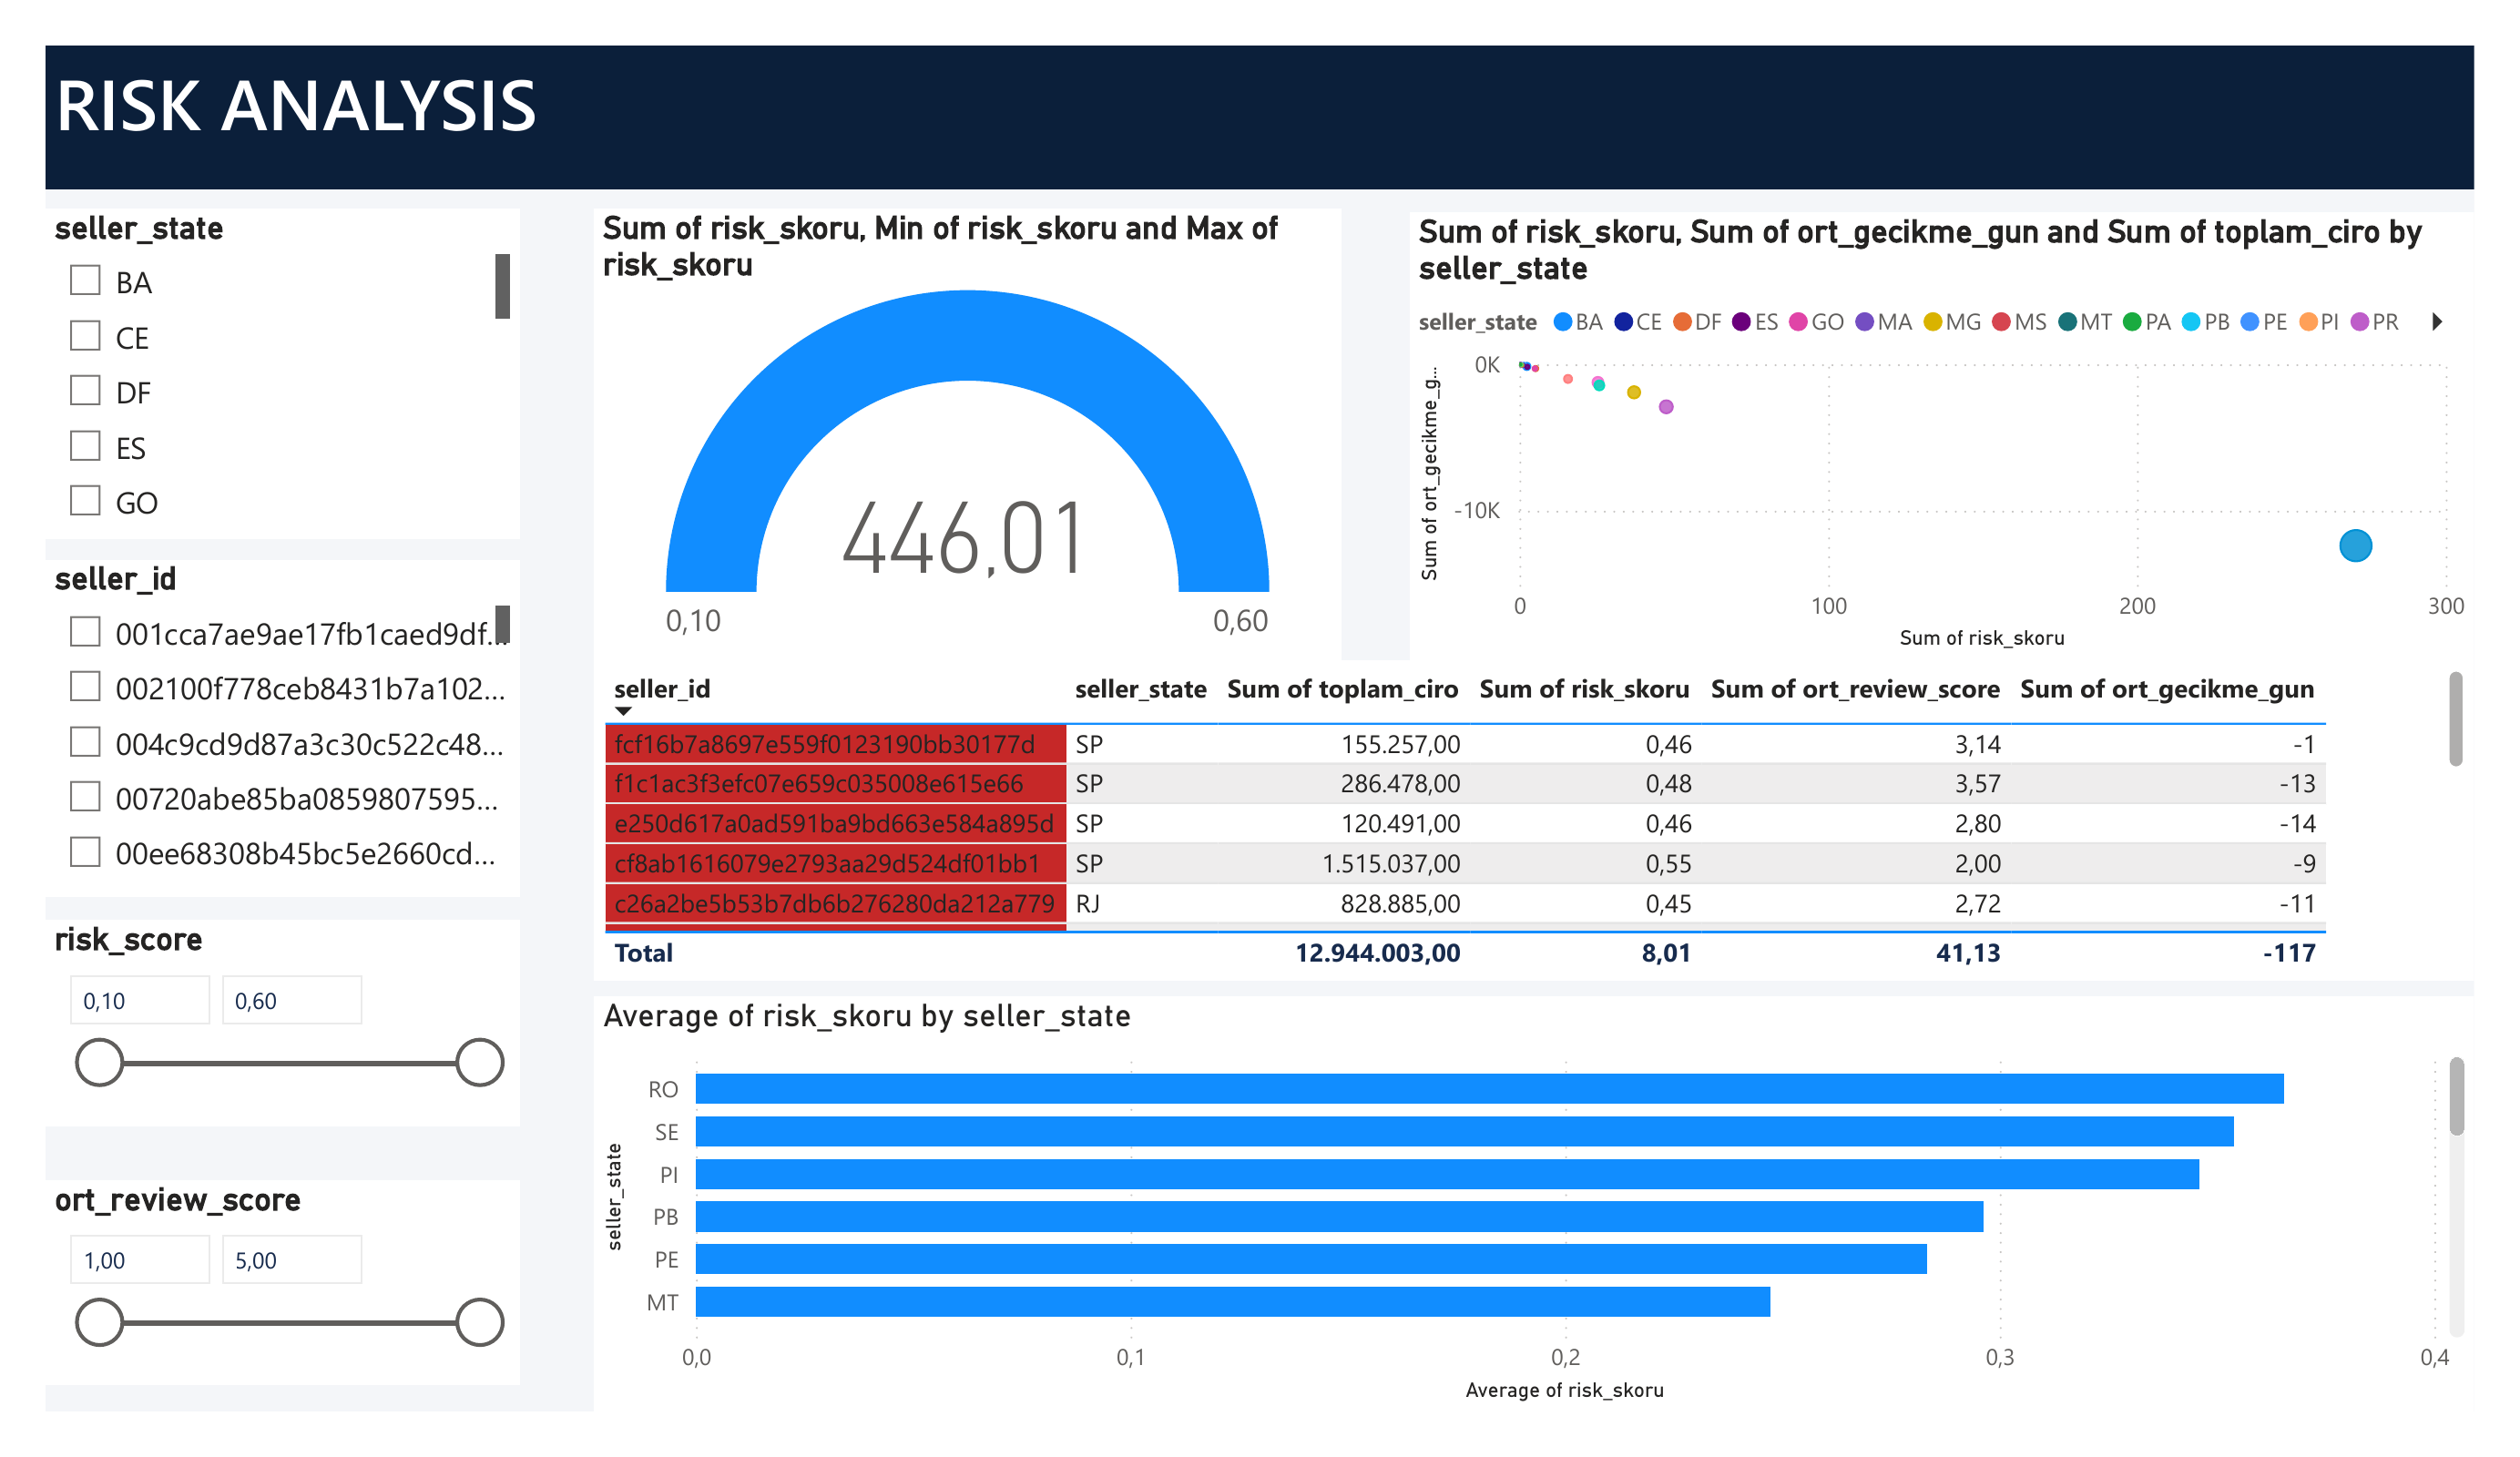

Layout of this report page (visuals, bound fields, positions):
{"tool":"powerbi","page":{"name":"Risk Analysis","canvas":[1280,720],"ordinal":2},"visuals":[{"type":"textbox","box":[0,0,1280,75.7],"z":0},{"type":"gauge","fields":{"Y":["Sum(Query1.risk_skoru)"],"MinValue":["Min(Query1.risk_skoru)"],"MaxValue":["Max(Query1.risk_skoru)"]},"box":[288.8,86.2,393.8,238.8],"z":1000},{"type":"slicer","title":"seller_state","fields":{"Values":["Query1.seller_state"]},"box":[0,86.2,250,173.8],"z":2000},{"type":"slicer","title":"seller_id","fields":{"Values":["Query1.seller_id"]},"box":[0,271.2,250,177.5],"z":3000},{"type":"slicer","title":"risk_score","fields":{"Values":["Query1.risk_skoru"]},"box":[0,461.2,250,108.8],"z":4000},{"type":"slicer","title":"ort_review_score","fields":{"Values":["Query1.ort_review_score"]},"box":[0,597.5,250,108.8],"z":5000},{"type":"scatterChart","fields":{"X":["Sum(Query1.risk_skoru)"],"Y":["Sum(Query1.ort_gecikme_gun)"],"Size":["Sum(Query1.toplam_ciro)"],"Series":["Query1.seller_state"]},"box":[718.8,87.5,561.2,236.2],"z":6000},{"type":"tableEx","fields":{"Values":["Query1.seller_id","Query1.seller_state","Sum(Query1.toplam_ciro)","Sum(Query1.risk_skoru)","Sum(Query1.ort_review_score)","Sum(Query1.ort_gecikme_gun)"]},"box":[288.8,323.8,991.2,168.8],"z":7000},{"type":"clusteredBarChart","fields":{"Category":["Query1.seller_state"],"Y":["Avg(Query1.risk_skoru)"]},"box":[288.8,501.2,991.2,218.8],"z":8000}]}

Visuals, with their boxes on the page's 1280x720 design canvas (x1, y1, x2, y2). These are canvas units, not pixel positions in the 2520x1457 screenshot, which may show the page scaled, cropped or inside an application window:
textbox: {"x1": 0, "y1": 0, "x2": 1280, "y2": 76}
gauge - Sum(Query1.risk_skoru) x Min(Query1.risk_skoru): {"x1": 289, "y1": 86, "x2": 683, "y2": 325}
"seller_state" slicer: {"x1": 0, "y1": 86, "x2": 250, "y2": 260}
"seller_id" slicer: {"x1": 0, "y1": 271, "x2": 250, "y2": 449}
"risk_score" slicer: {"x1": 0, "y1": 461, "x2": 250, "y2": 570}
"ort_review_score" slicer: {"x1": 0, "y1": 598, "x2": 250, "y2": 706}
scatterChart - Sum(Query1.risk_skoru) x Sum(Query1.ort_gecikme_gun): {"x1": 719, "y1": 88, "x2": 1280, "y2": 324}
tableEx - Query1.seller_id x Query1.seller_state: {"x1": 289, "y1": 324, "x2": 1280, "y2": 493}
clusteredBarChart - Query1.seller_state x Avg(Query1.risk_skoru): {"x1": 289, "y1": 501, "x2": 1280, "y2": 720}
